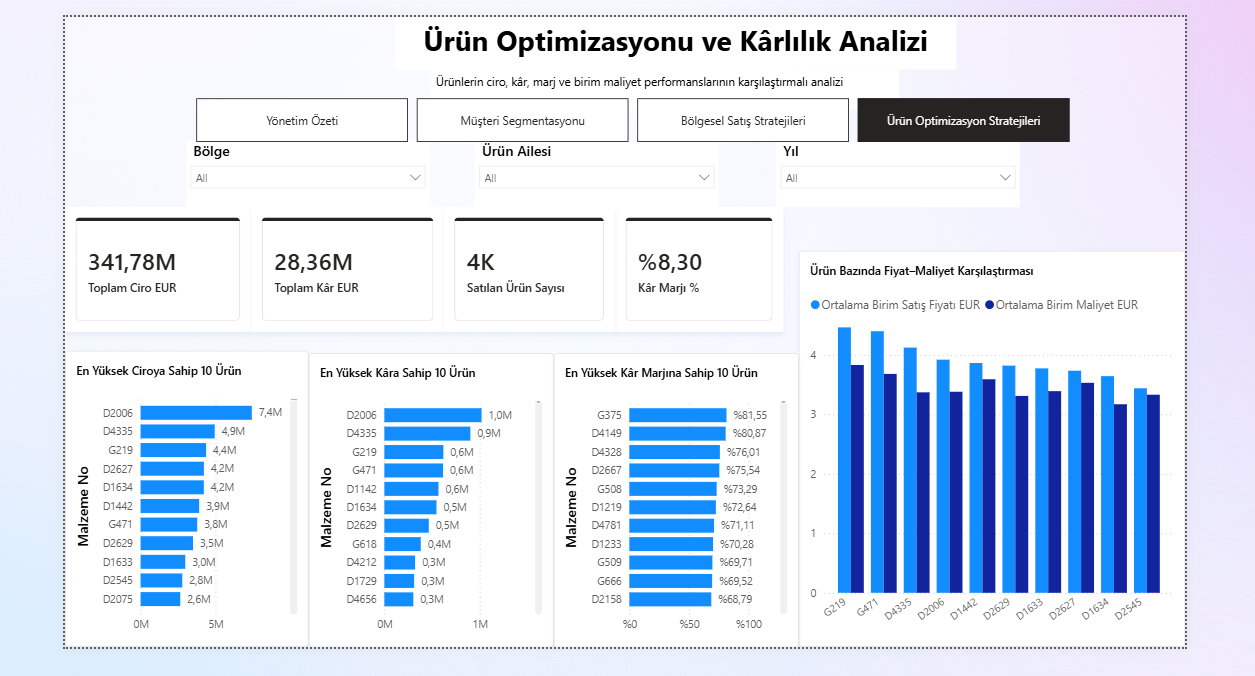

The dashboard page shown, as its layout file describes it:
{"tool":"powerbi","page":{"name":"Ürün Optimizasyon Stratejileri","canvas":[1280,720],"ordinal":3},"visuals":[{"type":"clusteredBarChart","title":"En Yüksek Ciroya Sahip 10 Ürün","fields":{"Category":["Ürün Master.Malzeme No"],"Y":["Satış Verileri.Toplam Ciro EUR"]},"box":[0,381.4,278.6,338.6],"z":0},{"type":"clusteredBarChart","title":"En Yüksek Kâra Sahip 10 Ürün","fields":{"Category":["Ürün Master.Malzeme No"],"Y":["Satış Verileri.Toplam Kâr EUR"]},"box":[278.6,384.3,280,335.7],"z":1000},{"type":"clusteredColumnChart","title":"Ürün Bazında Fiyat–Maliyet Karşılaştırması","fields":{"Category":["Ürün Master.Malzeme No"],"Y":["Satış Verileri.Ortalama Birim Satış Fiyatı EUR","Satış Verileri.Ortalama Birim Maliyet EUR"]},"box":[838.6,267.1,441.4,452.9],"z":2000},{"type":"clusteredBarChart","title":"En Yüksek Kâr Marjına Sahip 10 Ürün","fields":{"Category":["Ürün Master.Malzeme No"],"Y":["Satış Verileri.Kâr Marjı %"]},"box":[558.6,384.3,280,335.7],"z":3000},{"type":"cardVisual","fields":{"Data":["Satış Verileri.Toplam Ciro EUR"]},"box":[0,217.1,212.9,142.9],"z":4000},{"type":"cardVisual","fields":{"Data":["Satış Verileri.Toplam Kâr EUR"]},"box":[212.9,217.1,220,142.9],"z":5000},{"type":"cardVisual","fields":{"Data":["Satış Verileri.Kâr Marjı %"]},"box":[628.6,217.1,192.9,142.9],"z":6000},{"type":"cardVisual","fields":{"Data":["Satış Verileri.Satılan Ürün Sayısı"]},"box":[432.9,217.1,195.7,142.9],"z":7000},{"type":"slicer","fields":{"Values":["Ürün Master.Ürün Ailesi"]},"box":[468.6,141.4,278.6,75.7],"z":8000},{"type":"slicer","fields":{"Values":["Satış Verileri.Bölge"]},"box":[138.6,141.4,278.6,75.7],"z":9000},{"type":"slicer","fields":{"Values":["Tarih.Yıl"]},"box":[812.9,141.4,278.6,75.7],"z":10000},{"type":"textbox","box":[377.1,0,641.4,60],"z":11000},{"type":"textbox","box":[418.6,60,534.3,45.7],"z":12000},{"type":"pageNavigator","box":[150,92.9,1000,50],"z":12001}]}

Visuals, with their boxes on the page's 1280x720 design canvas (x1, y1, x2, y2). These are canvas units, not pixel positions in the 1255x676 screenshot, which may show the page scaled, cropped or inside an application window:
"En Yüksek Ciroya Sahip 10 Ürün" clusteredBarChart: 0/381/279/720
"En Yüksek Kâra Sahip 10 Ürün" clusteredBarChart: 279/384/559/720
"Ürün Bazında Fiyat–Maliyet Karşılaştırması" clusteredColumnChart: 839/267/1280/720
"En Yüksek Kâr Marjına Sahip 10 Ürün" clusteredBarChart: 559/384/839/720
cardVisual - Satış Verileri.Toplam Ciro EUR: 0/217/213/360
cardVisual - Satış Verileri.Toplam Kâr EUR: 213/217/433/360
cardVisual - Satış Verileri.Kâr Marjı %: 629/217/822/360
cardVisual - Satış Verileri.Satılan Ürün Sayısı: 433/217/629/360
slicer - Ürün Master.Ürün Ailesi: 469/141/747/217
slicer - Satış Verileri.Bölge: 139/141/417/217
slicer - Tarih.Yıl: 813/141/1092/217
textbox: 377/0/1018/60
textbox: 419/60/953/106
pageNavigator: 150/93/1150/143
